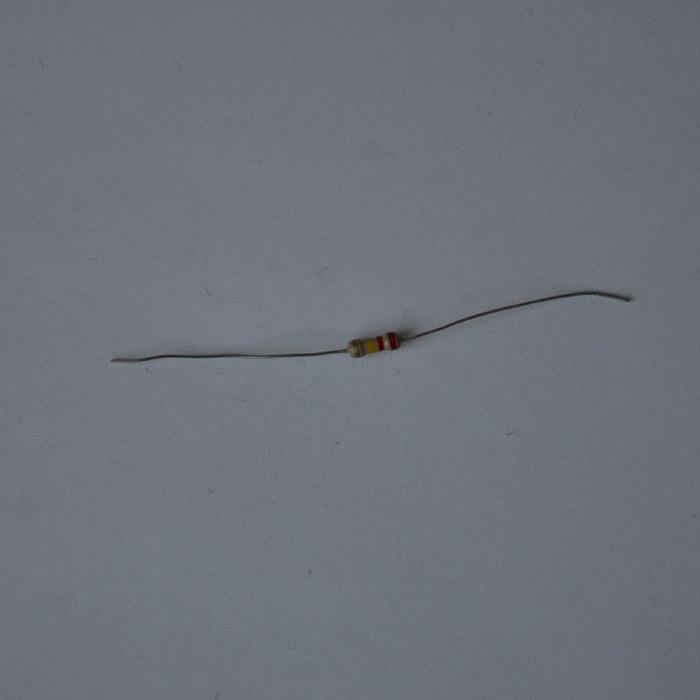resistor: (346, 332, 398, 358)
